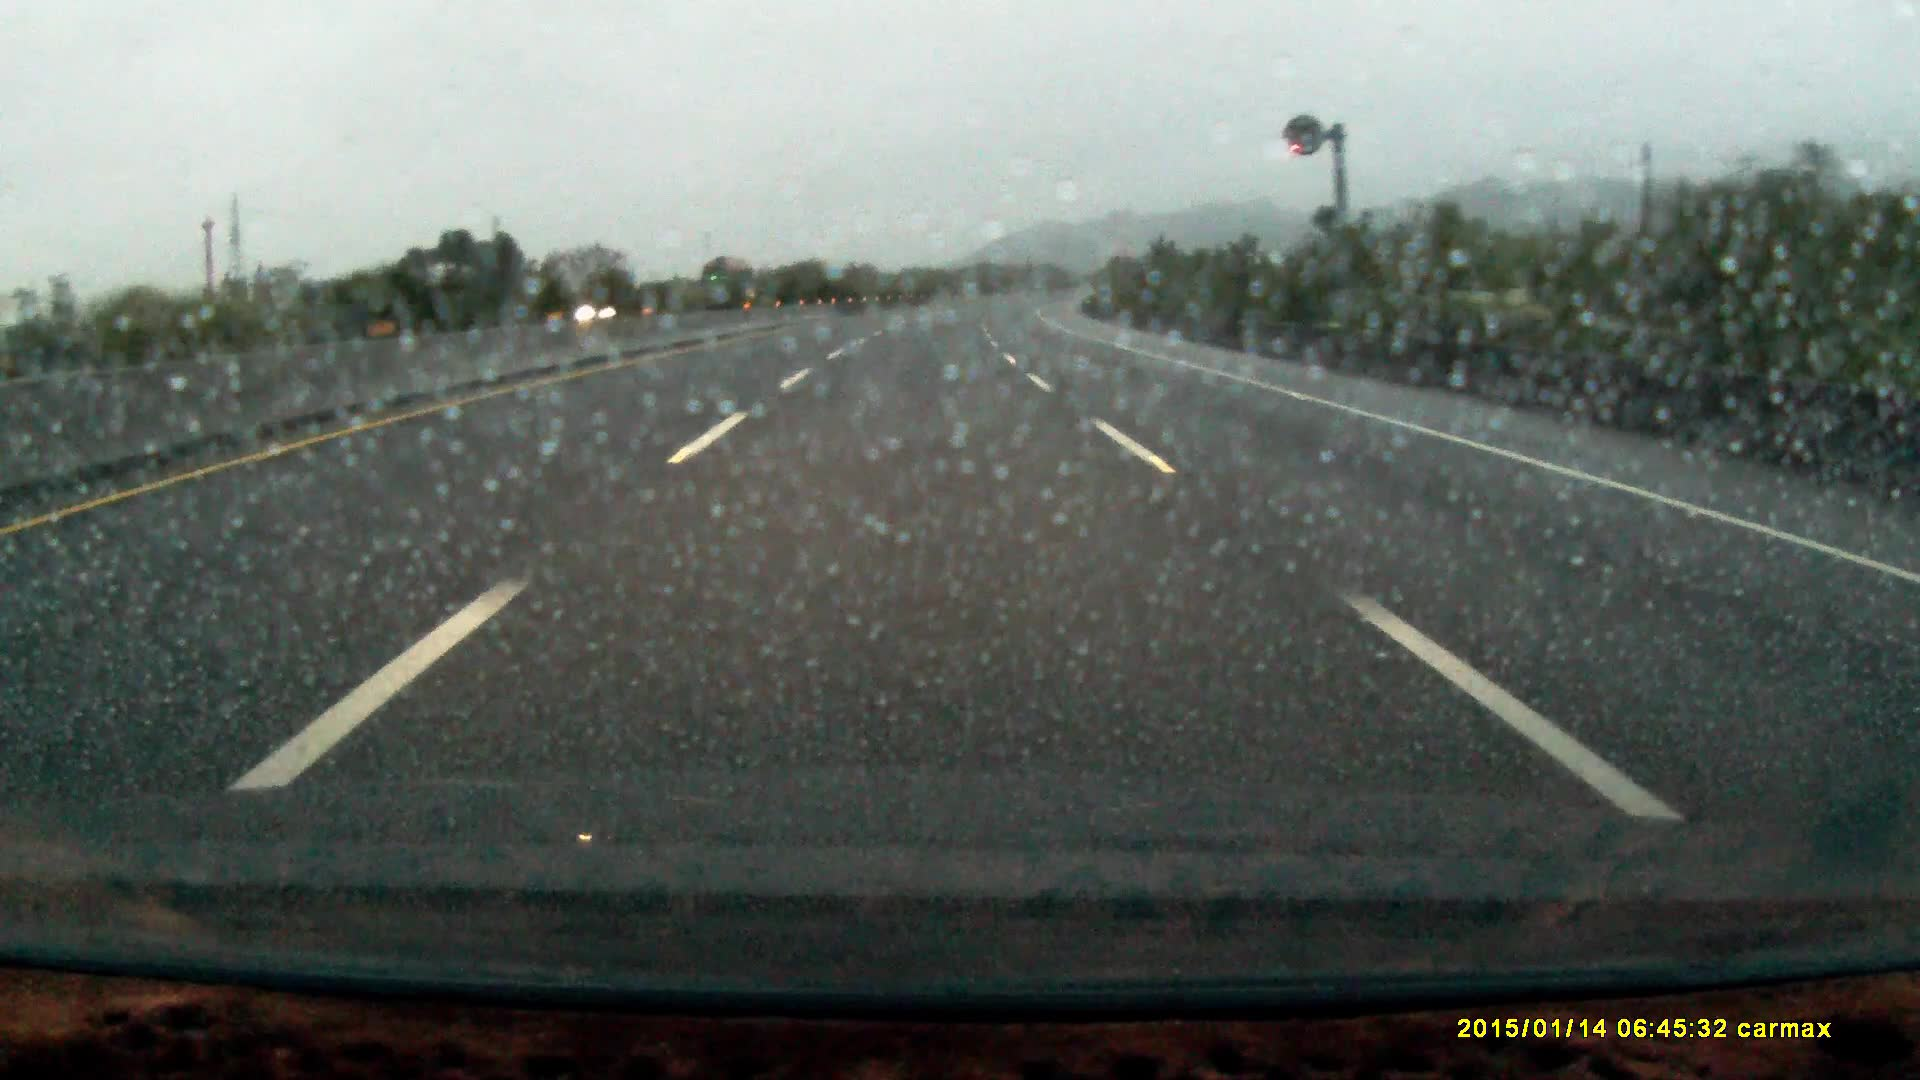vehicle: (692, 258, 746, 307), (574, 291, 636, 319)
